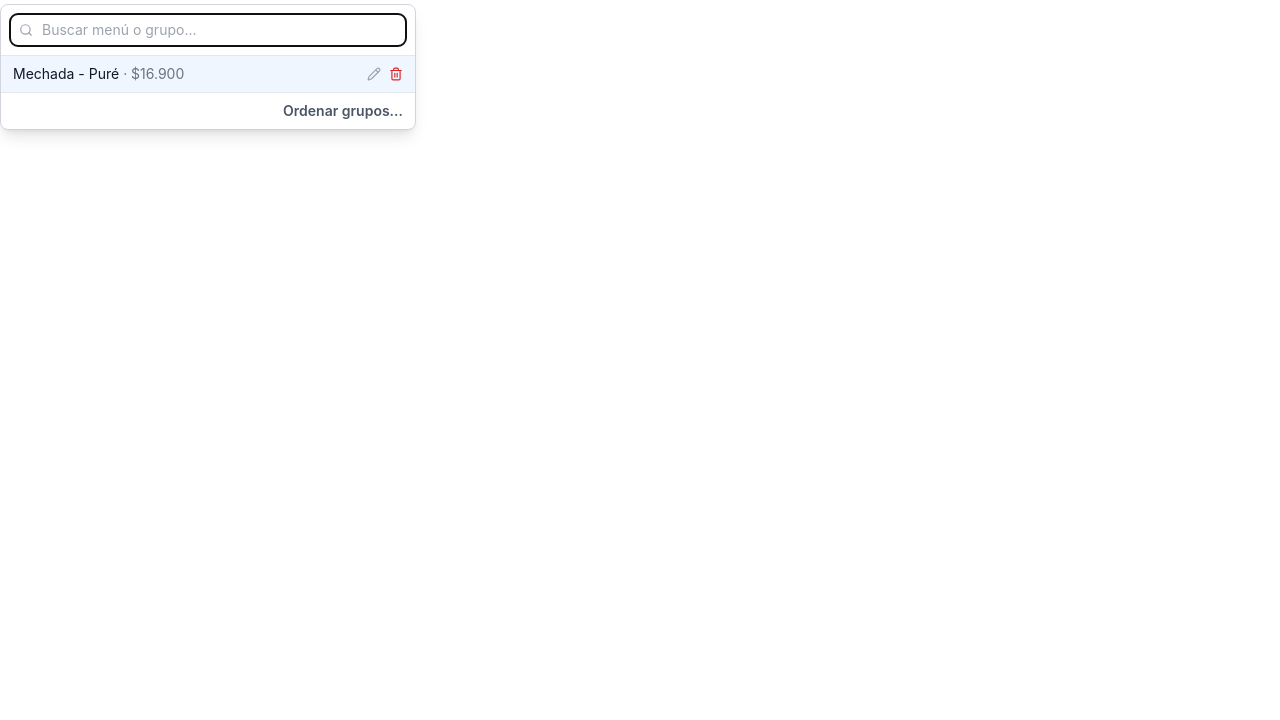
Test: MenusGuardados con grupos › el lápiz abre la edición del menú con su nombre
The width and height of the screenshot is (1280, 720).
Click the button named "Editar Mechada - Puré". click: (374,74)
box: [367,67,381,81]
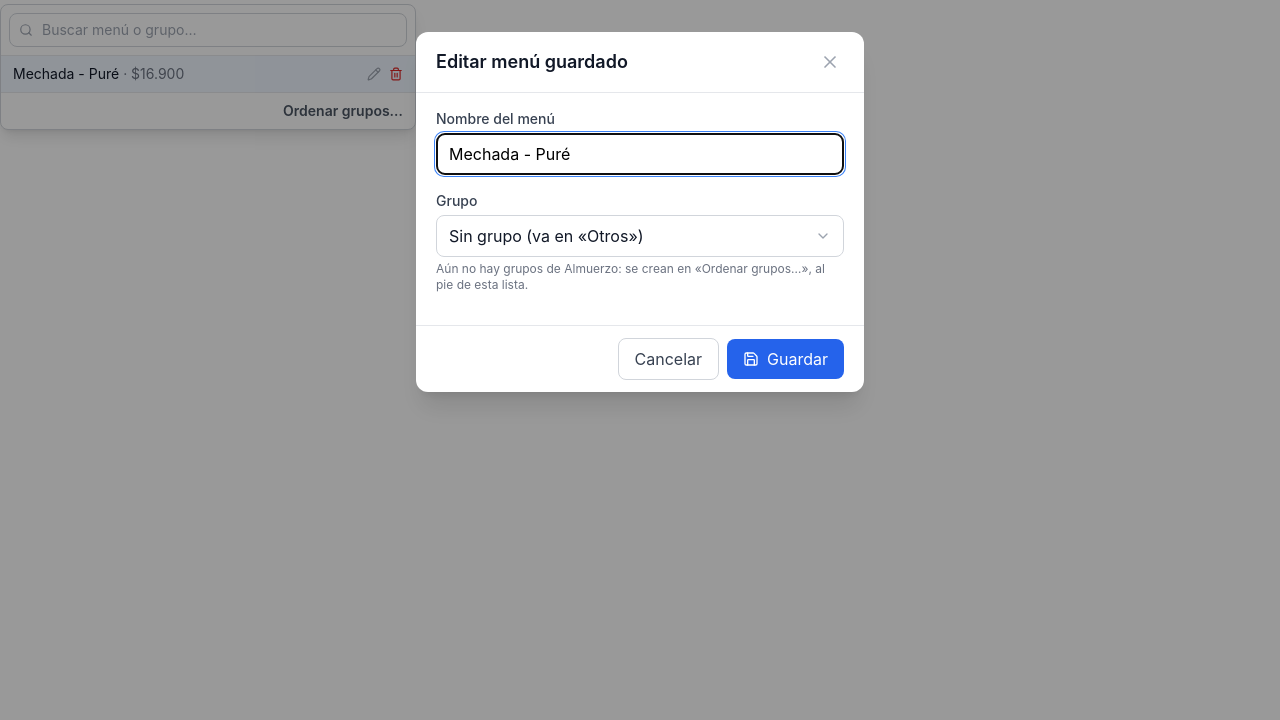
Expected: the heading "Editar menú guardado" is shown, [436,51,628,72]
Expected: the field showing "Mechada - Puré" is shown, [436,133,844,175]
